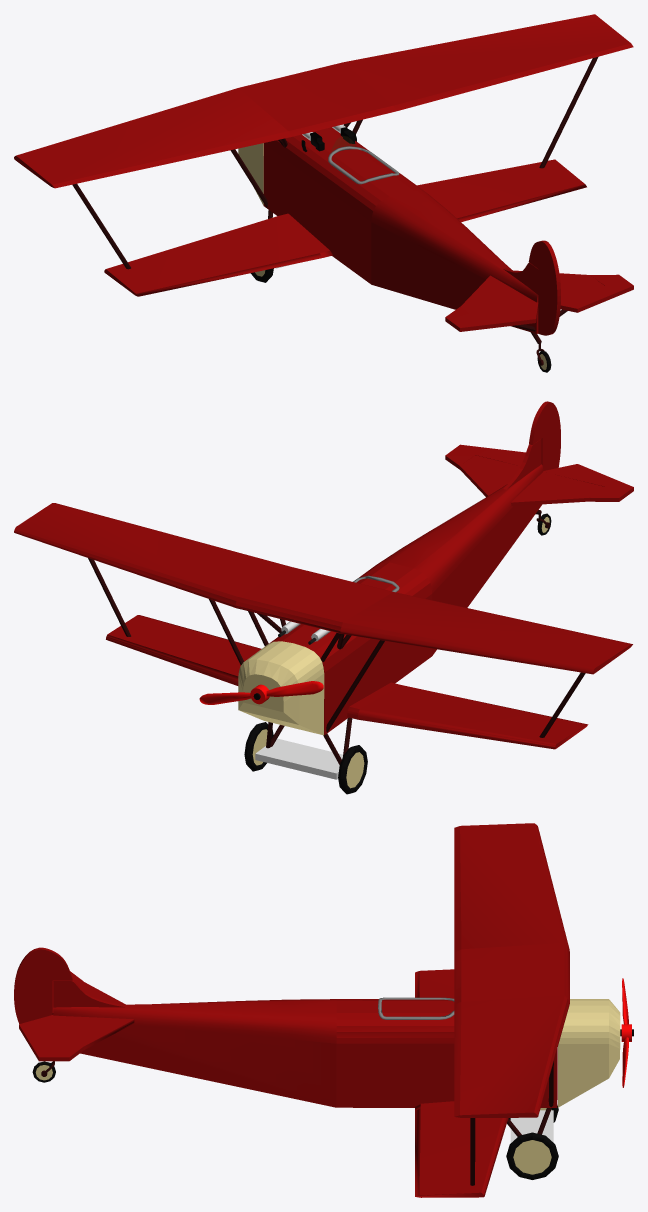
The model's file is Avio_lod2.FBX.
3 renders of one model, top to bottom at view 1: azimuth 30°, elevation 25°; view 2: azimuth 150°, elevation 25°; view 3: azimuth 270°, elevation 25°, orthographic. The views are drawn at different scales.
Parts seen in each view (by area): view 1: Line184, Line202, Shape013, Line155, Line138, Line163; view 2: Line184, Shape013, Line202, Box001, Tube031, Torus008, Line160; view 3: Line184, Line202, Shape013, Cylinder077, Torus010, Box001, Tube031, Line138.
Part boxes in pixels (bbox=[...]): Line184: bbox=[14, 14, 633, 335]; Line202: bbox=[417, 159, 586, 222]; Shape013: bbox=[238, 143, 263, 205]; Line155: bbox=[539, 56, 598, 168]; Line138: bbox=[328, 146, 399, 184]; Line163: bbox=[72, 183, 130, 269]; Line184: bbox=[14, 401, 633, 749]; Shape013: bbox=[238, 641, 324, 735]; Line202: bbox=[106, 615, 261, 685]; Box001: bbox=[255, 738, 342, 779]; Tube031: bbox=[199, 681, 323, 704]; Torus008: bbox=[338, 745, 367, 794]; Line160: bbox=[326, 640, 384, 732]; Line184: bbox=[14, 823, 569, 1117]; Line202: bbox=[415, 1101, 508, 1197]; Shape013: bbox=[558, 999, 620, 1107]; Cylinder077: bbox=[513, 1140, 551, 1174]; Torus010: bbox=[506, 1132, 558, 1179]; Box001: bbox=[510, 1110, 553, 1142]; Tube031: bbox=[621, 978, 631, 1087]; Line138: bbox=[378, 997, 454, 1019].
Size of the model in its own units: 2802 by 940 by 2535.
